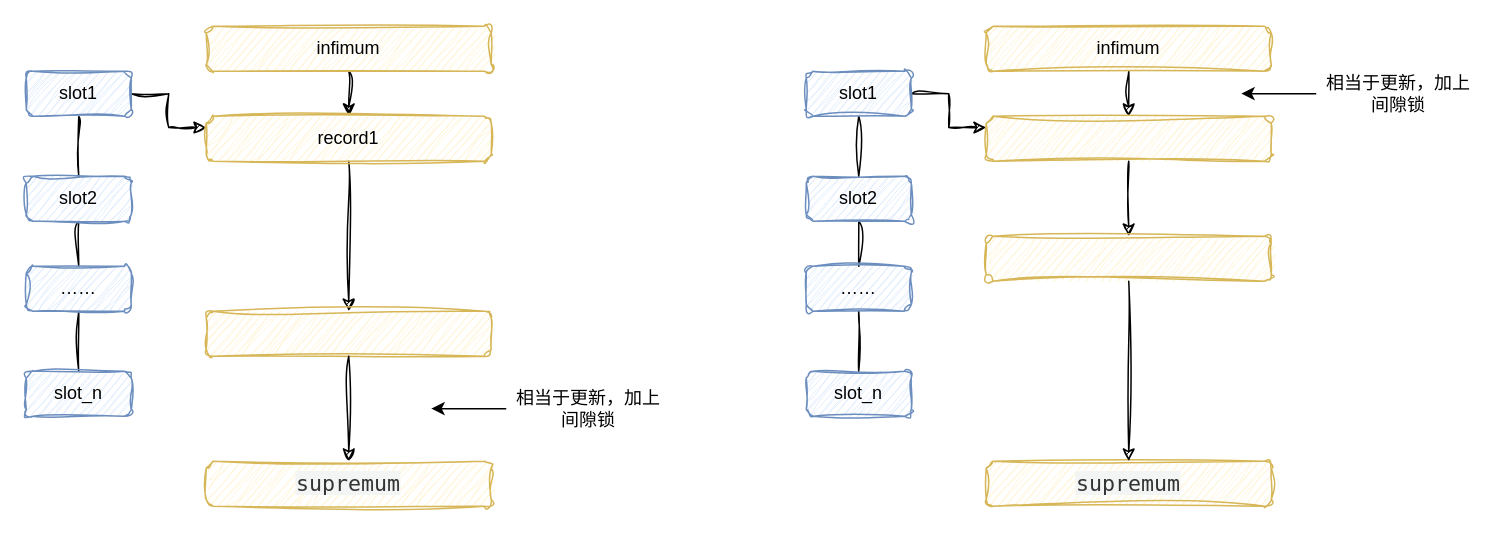
Some shapes in this 1508 by 533 pixel diagram are drawn without their labels. Here are the shapes that lost their labels. From the top down, the centre of each, then its label:
At point 1128,138: "record3".
At point 1128,258: "record4".
At point 348,333: "record2".
